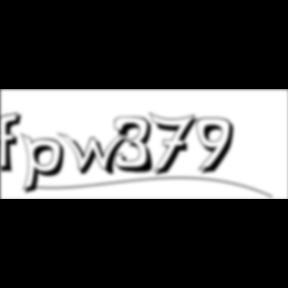3: (114, 116, 160, 176)
7: (148, 111, 204, 179)
9: (196, 117, 242, 177)
f: (1, 111, 28, 175)
p: (21, 132, 71, 198)
w: (58, 132, 136, 178)
